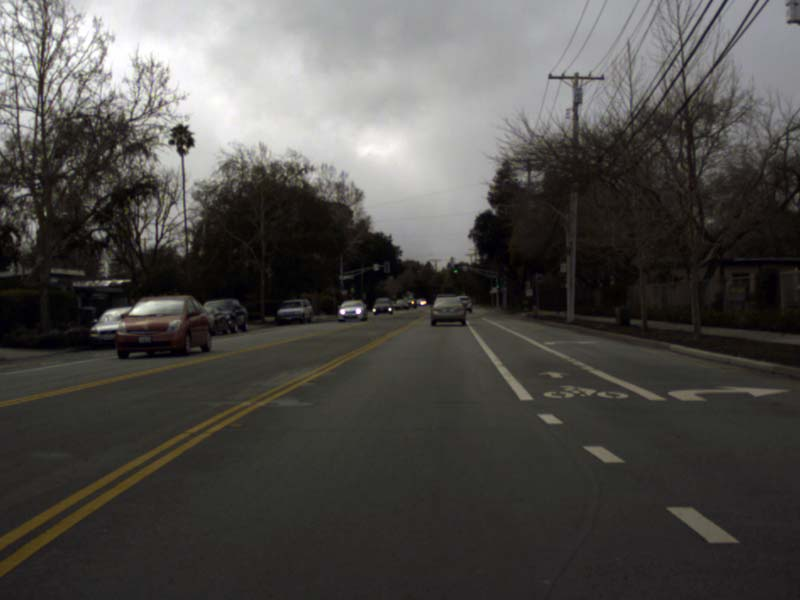Green: (496, 282, 500, 293), (453, 264, 457, 273), (350, 281, 353, 292)
